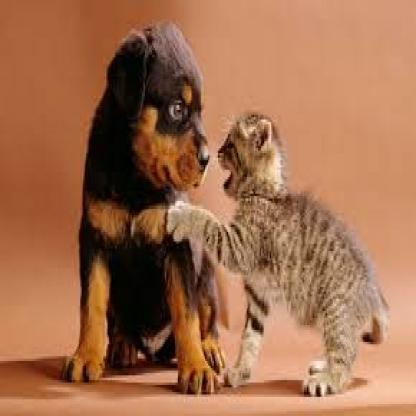dog: (102, 3, 216, 205)
